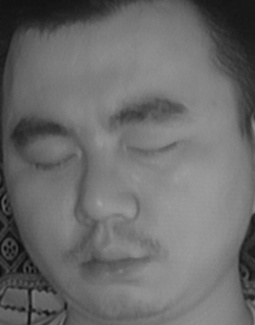blink: (128, 130, 176, 167), (27, 143, 78, 177)
mouth: (69, 229, 148, 288)
